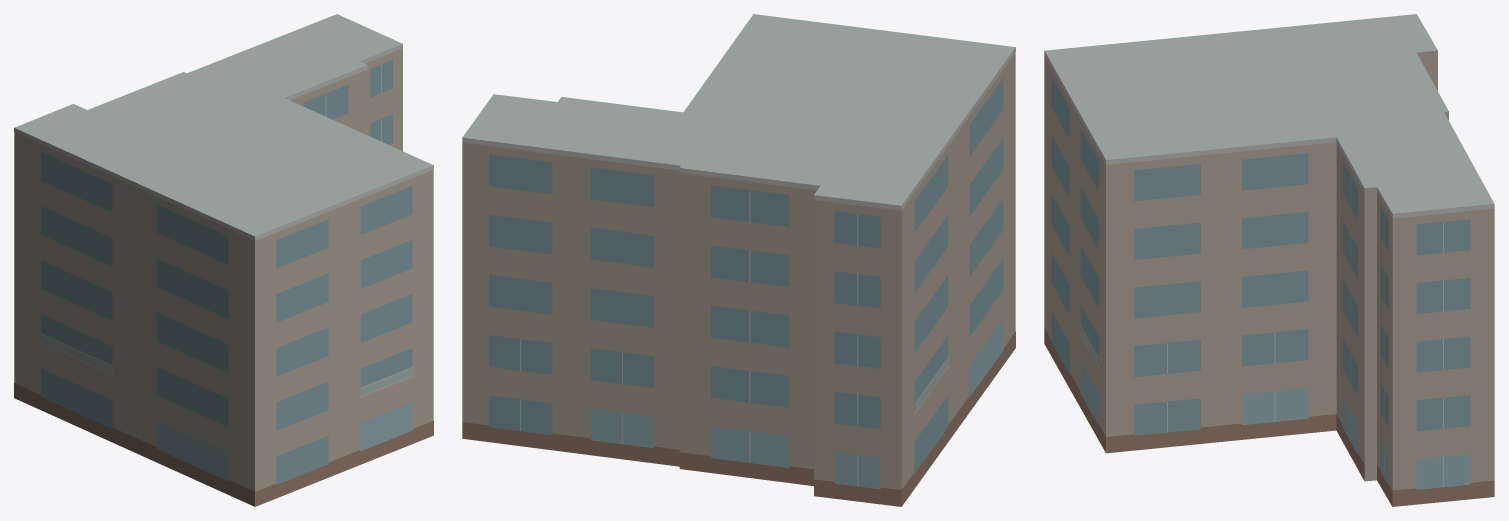
The model's file is survey-upis-32553605.glb.
3 views of the same model, side by side, from view 1: azimuth 30°, elevation 25°; view 2: azimuth 150°, elevation 25°; view 3: azimuth 270°, elevation 25° (orthographic). The views are drawn at different scales.
Visible parts, largest first — view 1: survey-upis-32553605.tmp; view 2: survey-upis-32553605.tmp; view 3: survey-upis-32553605.tmp.
Part boxes in pixels (<box>): survey-upis-32553605.tmp: <box>14,14,433,506</box>; survey-upis-32553605.tmp: <box>462,14,1015,506</box>; survey-upis-32553605.tmp: <box>1044,14,1494,506</box>.
Size of the model in its own units: 21.71 by 14.85 by 20.67.
